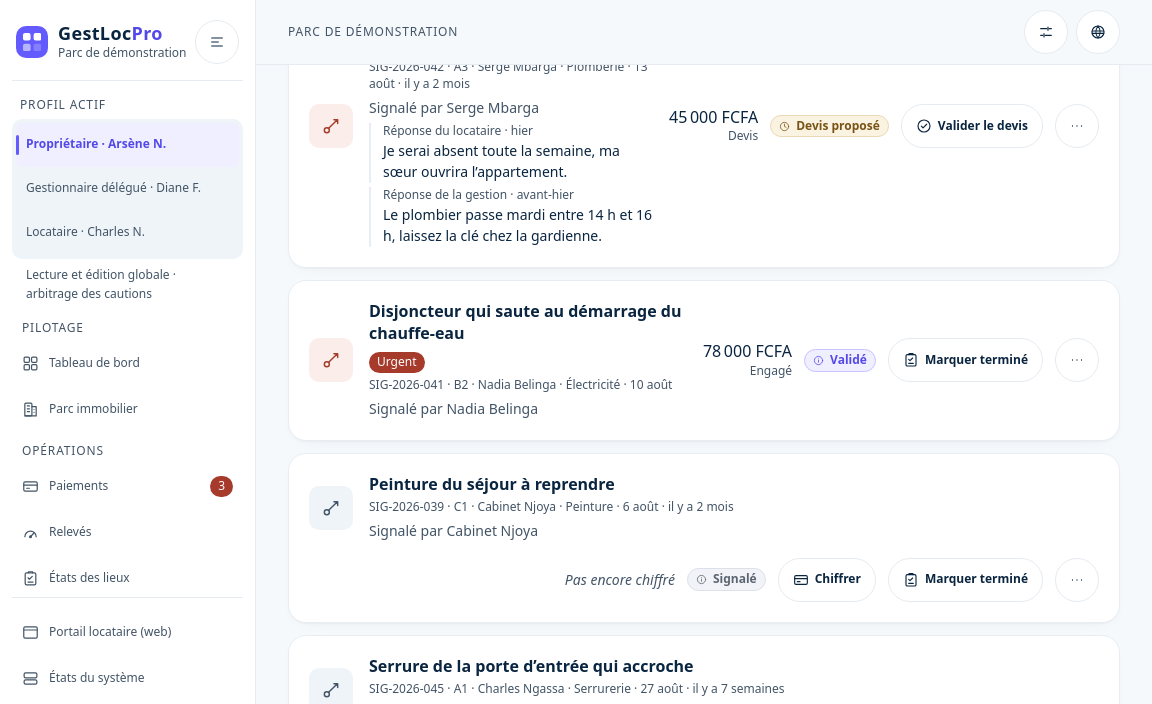
Scenario: clôture d’une intervention › sort l’intervention de la liste des travaux à faire
The image size is (1152, 704).
(page scrolled)
What coordinates should you click on to do the following:
click the button "Marquer terminé" in the row of "78 000 FCFA"
I would click on:
 (965, 360)
Its box is [888,338,1043,382].
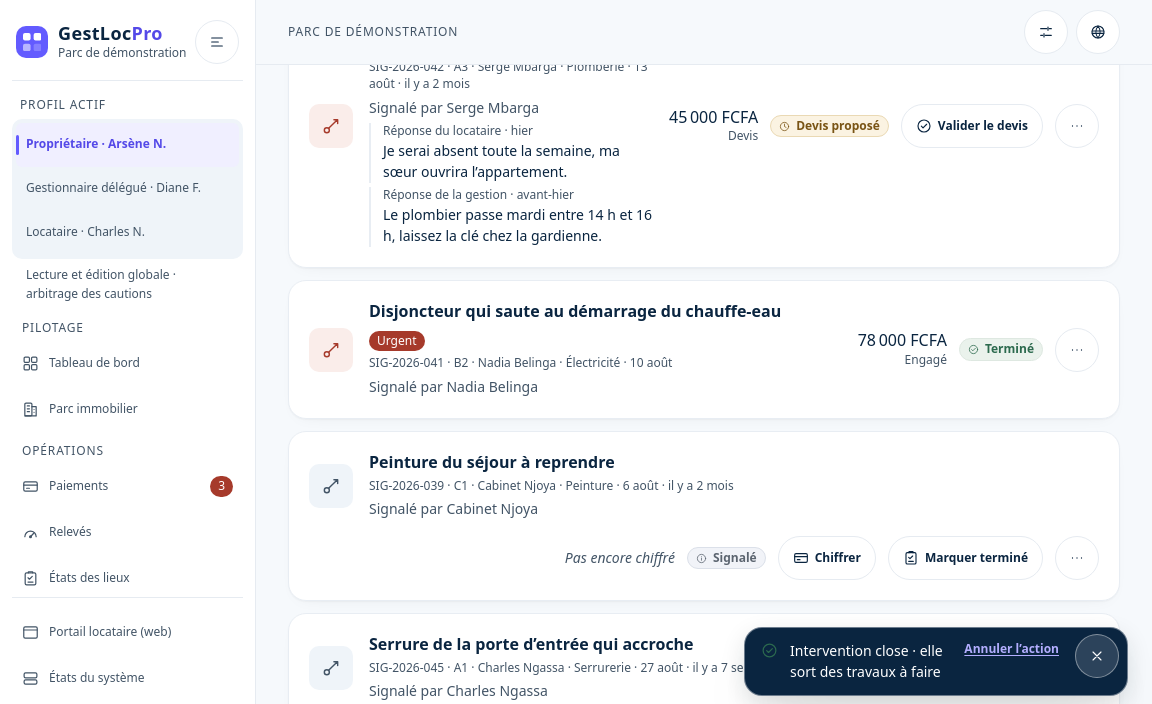
Now the text "Intervention close · elle sort des travaux à faire" is shown, box [790,640,948,683]
